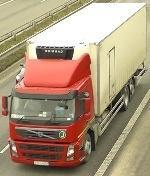truck: (1, 3, 145, 167)
